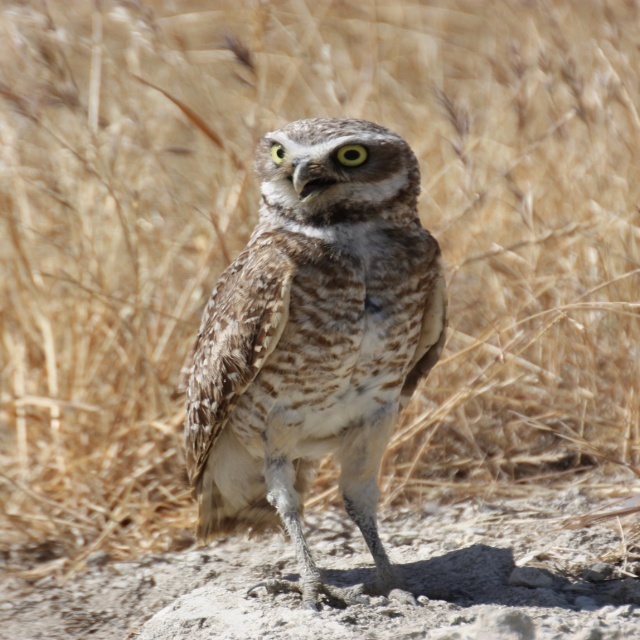Owl: (175, 117, 450, 613)
